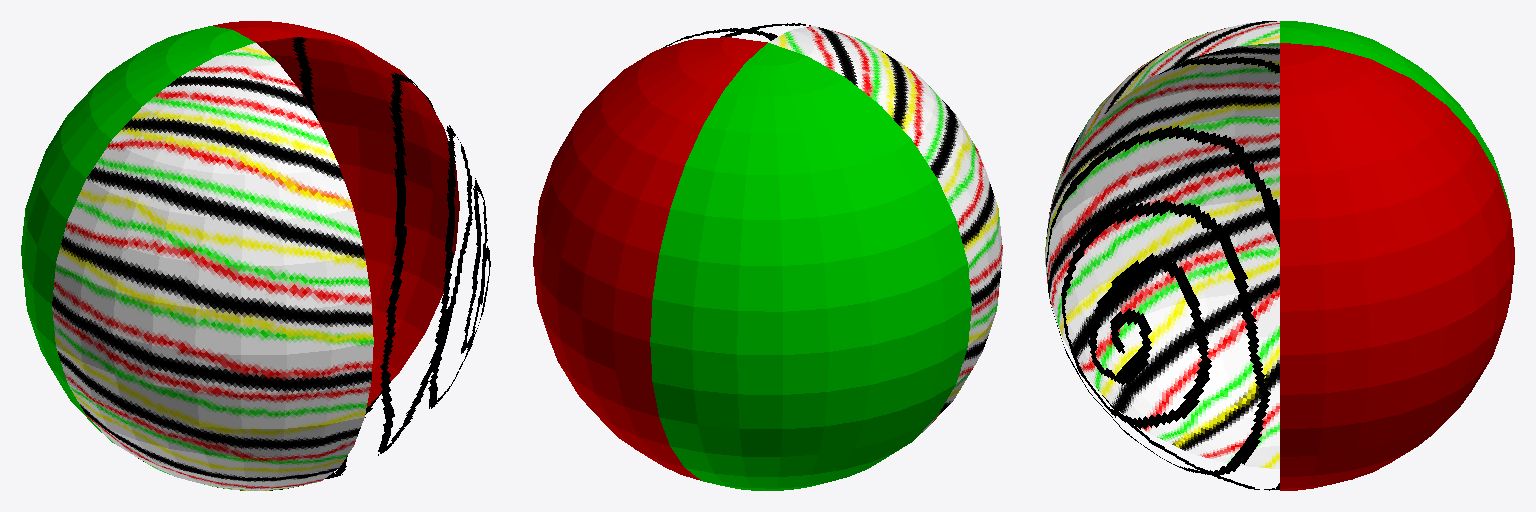
3 views of the same model, side by side, from view 1: azimuth 30°, elevation 25°; view 2: azimuth 150°, elevation 25°; view 3: azimuth 270°, elevation 25° (orthographic).
Parts seen in each view (by area): view 1: Sphere; view 2: Sphere; view 3: Sphere.
Boxes of the visible parts, box(x1,y1,x2,y2) form: Sphere: box(21, 21, 490, 490); Sphere: box(533, 23, 1002, 490); Sphere: box(1045, 21, 1514, 490).
Bounding box in the file's own units: 0.9998 × 0.9998 × 0.9998.
4 materials, 2 textured.